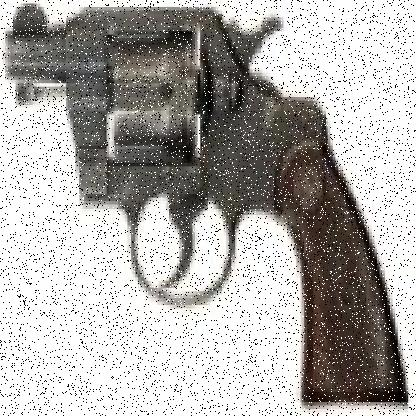pistol: (16, 3, 411, 405)
